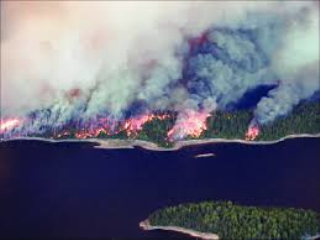fire: (67, 110, 166, 139), (176, 106, 210, 140), (244, 119, 263, 141), (2, 114, 21, 134)
smoke: (55, 24, 315, 109)
